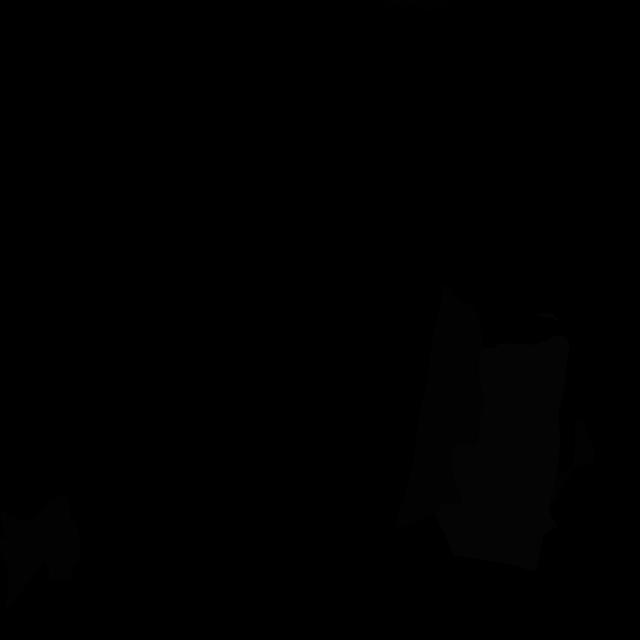cardboard: (395, 285, 484, 527), (0, 493, 81, 609), (549, 419, 596, 508)
rigid_plastic: (375, 0, 449, 13)
soft_plastic: (435, 335, 570, 572), (535, 313, 559, 323)
